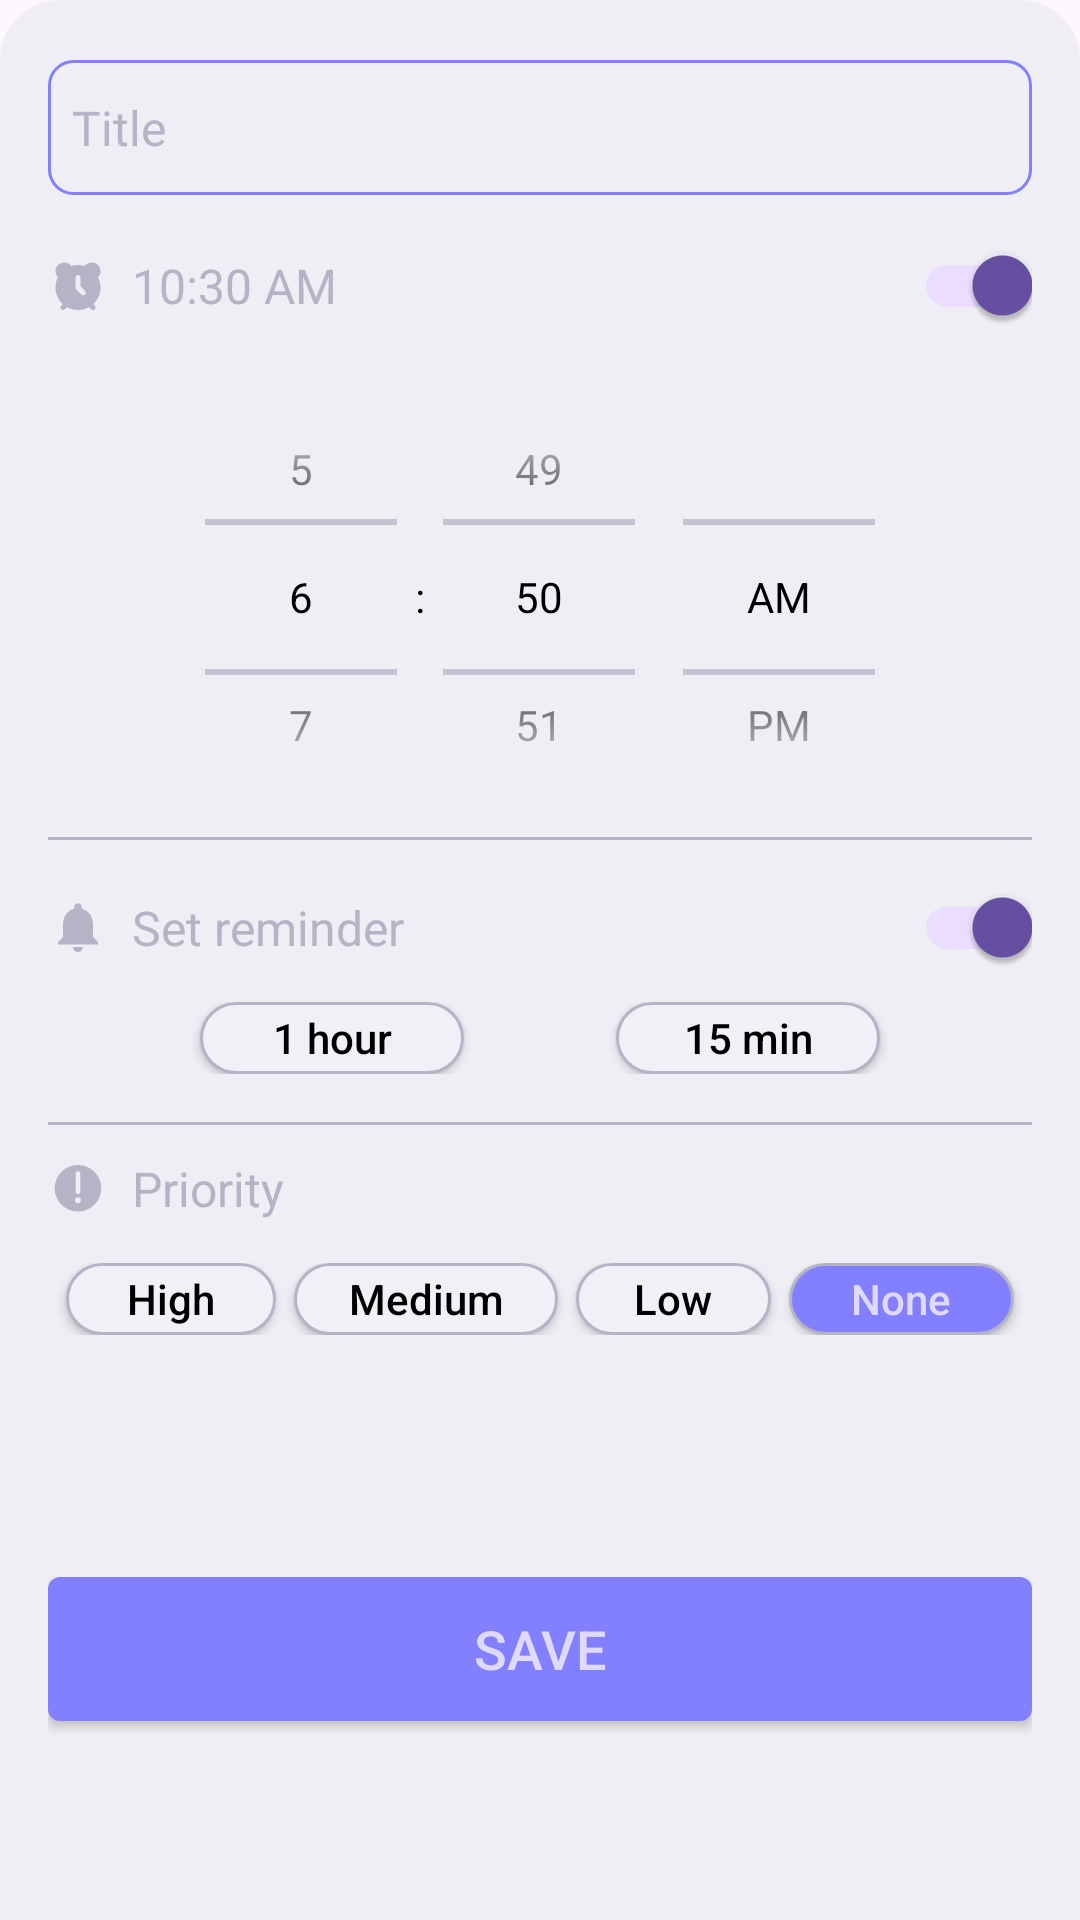

Screen size 1080x1920. Icon name, then its center in pixels as [x,y]:
alarm: [78,286]
exclamation mark: [78,1188]
notification: [78,927]
